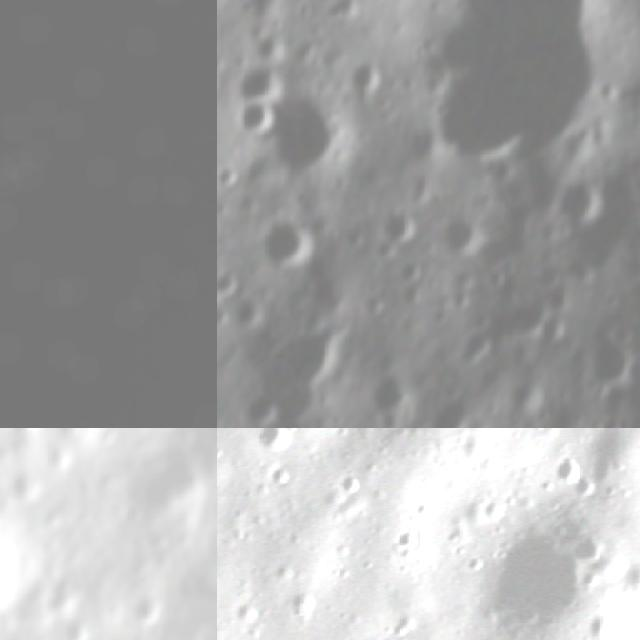crater: (0, 0, 217, 428), (434, 0, 623, 180), (457, 497, 634, 640), (275, 87, 342, 168), (0, 467, 28, 628), (574, 436, 634, 496), (273, 580, 332, 639), (262, 216, 316, 267), (382, 518, 431, 568), (542, 448, 592, 497), (556, 184, 607, 231), (472, 492, 519, 540), (587, 330, 630, 381), (126, 584, 169, 635), (243, 428, 300, 466), (451, 428, 498, 473), (233, 97, 276, 143), (258, 460, 302, 502), (561, 472, 603, 514), (328, 465, 369, 507), (579, 605, 627, 640), (445, 220, 490, 257), (402, 491, 442, 531), (382, 212, 428, 245), (456, 546, 495, 584), (243, 390, 277, 428), (230, 298, 264, 333), (217, 271, 237, 297)
